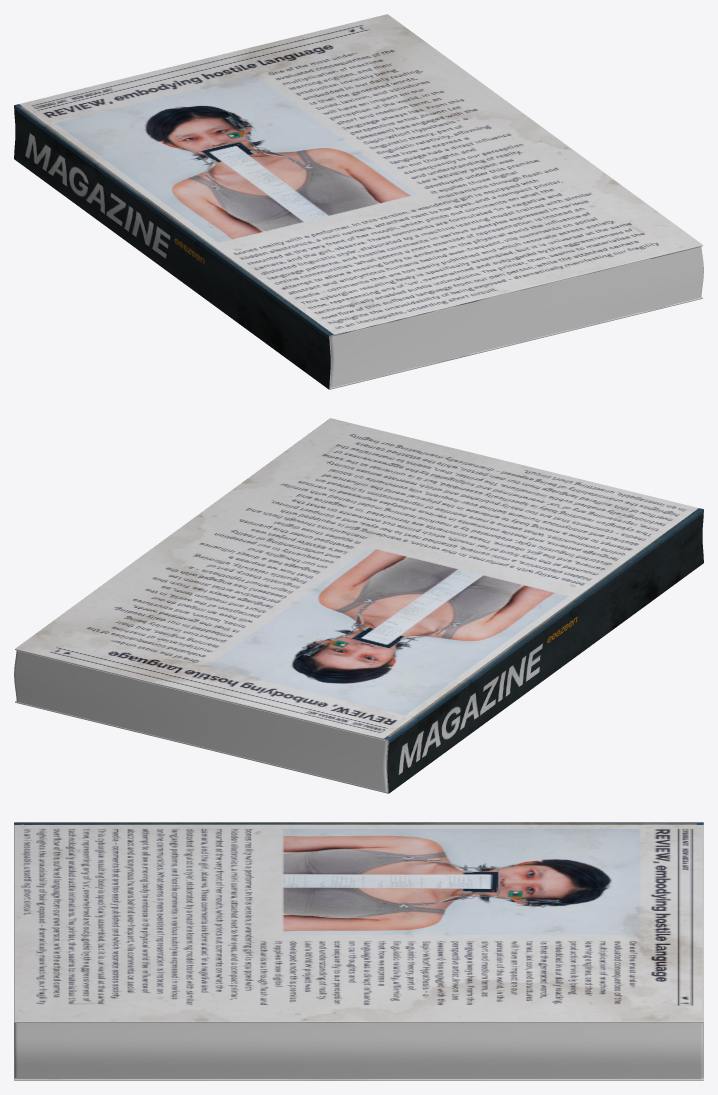
The model's file is news.glb.
3 views of the same model, one above another, from view 1: azimuth 30°, elevation 25°; view 2: azimuth 150°, elevation 25°; view 3: azimuth 270°, elevation 25° (orthographic). The views are drawn at different scales.
Parts seen in each view (by area): view 1: Book_cover.001, Pages.001; view 2: Book_cover.001, Pages.001; view 3: Book_cover.001, Pages.001.
Part boxes in pixels (bbox=[...]): Book_cover.001: bbox=[14, 14, 702, 389]; Pages.001: bbox=[330, 246, 703, 387]; Book_cover.001: bbox=[15, 418, 703, 793]; Pages.001: bbox=[14, 650, 387, 791]; Book_cover.001: bbox=[14, 822, 703, 1080]; Pages.001: bbox=[14, 1023, 703, 1078].
Bounding box in the file's own units: 0.1308 × 0.018 × 0.19.
2 materials, 1 textured.
